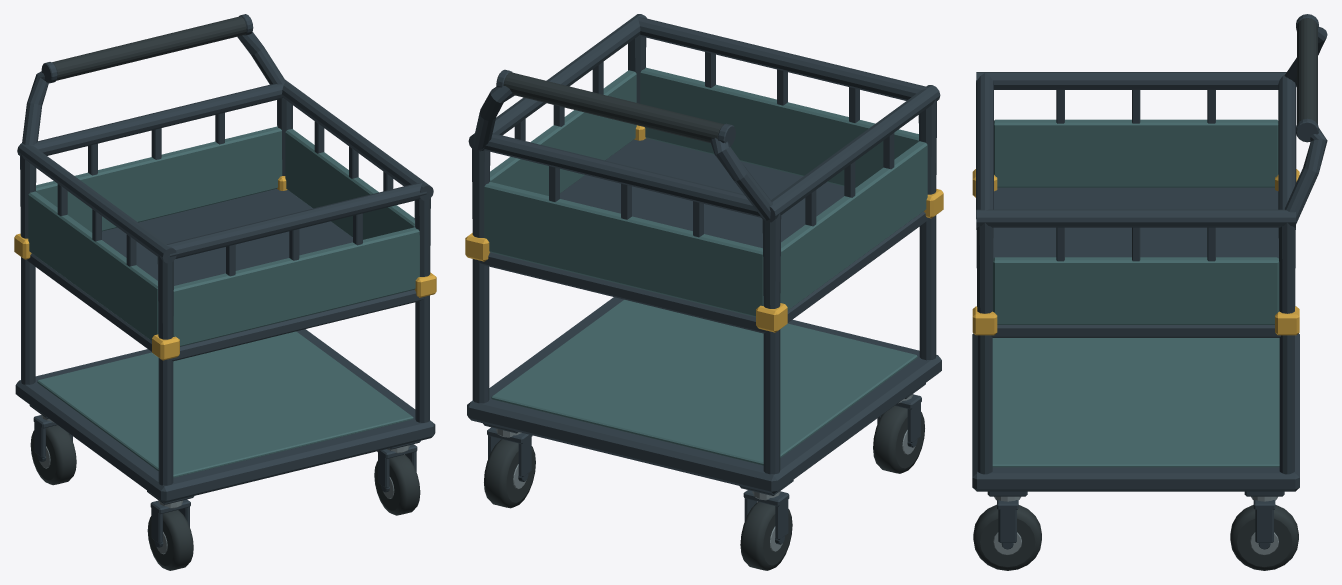
The model's file is picking-cart.glb.
3 views of the same model, side by side, from view 1: azimuth 30°, elevation 25°; view 2: azimuth 150°, elevation 25°; view 3: azimuth 270°, elevation 25° (orthographic). The views are drawn at different scales.
Visible parts, largest first — view 1: cart_lower_shelf_inlay, solid_basket_end_panel.001, cart_basket_floor, solid_basket_end_panel, cart_lower_shelf, solid_basket_side_panel, solid_basket_side_panel.001, rounded_basket_end_rim.001, rounded_basket_end_rim, hand_contact_bar, continuous_cart_corner_post.001, rounded_basket_side_rim (+10 smaller); view 2: cart_lower_shelf_inlay, solid_basket_end_panel, cart_basket_floor, cart_lower_shelf, solid_basket_end_panel.001, solid_basket_side_panel, solid_basket_side_panel.001, rounded_basket_end_rim.001, rounded_basket_end_rim, hand_contact_bar, continuous_cart_corner_post, rounded_basket_side_rim (+10 smaller); view 3: cart_lower_shelf_inlay, solid_basket_side_panel, solid_basket_side_panel.001, cart_basket_floor, cart_lower_shelf, rounded_basket_side_rim.001, rounded_basket_side_rim, continuous_cart_corner_post.002, continuous_cart_corner_post.003, rounded_caster_tyre.003, rounded_caster_tyre.002, rounded_basket_end_rim.001 (+7 smaller).
Part boxes in pixels (x1,y1,x2,y2): cart_lower_shelf_inlay: (37, 331, 413, 477); solid_basket_end_panel.001: (173, 227, 419, 346); cart_basket_floor: (27, 189, 423, 361); solid_basket_end_panel: (36, 126, 282, 232); cart_lower_shelf: (15, 329, 435, 502); solid_basket_side_panel: (28, 191, 158, 340); solid_basket_side_panel.001: (285, 129, 414, 239); rounded_basket_end_rim.001: (166, 183, 426, 258); rounded_basket_end_rim: (31, 84, 283, 155); hand_contact_bar: (52, 16, 246, 80); continuous_cart_corner_post.001: (157, 255, 173, 485); rounded_basket_side_rim: (17, 143, 176, 263); cart_lower_shelf_inlay: (491, 299, 917, 465); solid_basket_end_panel: (484, 182, 763, 316); cart_basket_floor: (479, 138, 928, 333); cart_lower_shelf: (467, 297, 941, 493); solid_basket_end_panel.001: (640, 67, 918, 187); solid_basket_side_panel: (780, 141, 927, 310); solid_basket_side_panel.001: (490, 70, 636, 195); rounded_basket_end_rim.001: (637, 17, 927, 100); rounded_basket_end_rim: (484, 133, 761, 217); hand_contact_bar: (503, 72, 723, 142); continuous_cart_corner_post: (762, 213, 781, 474); rounded_basket_side_rim: (760, 85, 940, 222); cart_lower_shelf_inlay: (992, 338, 1279, 467); solid_basket_side_panel: (994, 119, 1278, 187); solid_basket_side_panel.001: (993, 257, 1279, 324); cart_basket_floor: (991, 187, 1280, 337); cart_lower_shelf: (972, 333, 1299, 491); rounded_basket_side_rim.001: (976, 209, 1295, 227); rounded_basket_side_rim: (976, 72, 1286, 89); continuous_cart_corner_post.002: (1278, 222, 1295, 474); continuous_cart_corner_post.003: (976, 223, 993, 474); rounded_caster_tyre.003: (973, 504, 1041, 570); rounded_caster_tyre.002: (1230, 504, 1298, 570); rounded_basket_end_rim.001: (976, 73, 993, 218).
Bounding box in the file's own units: 0.695 × 0.963 × 0.7049.
